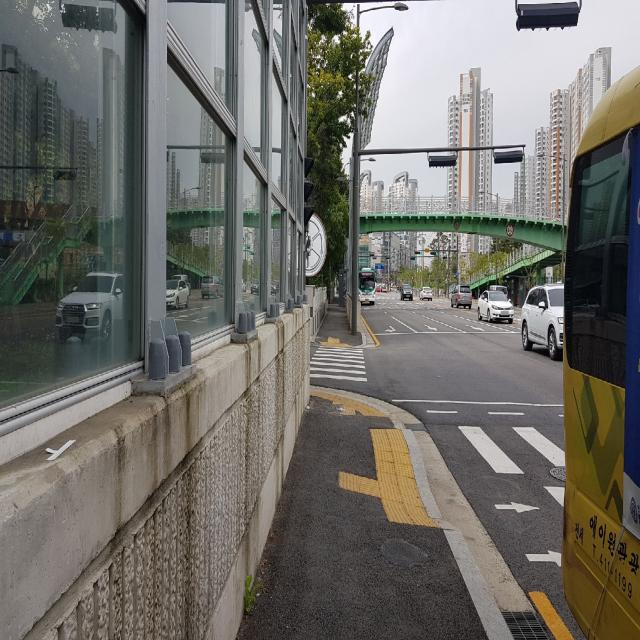횡단보도: (426, 406, 561, 580), (310, 345, 368, 382)
